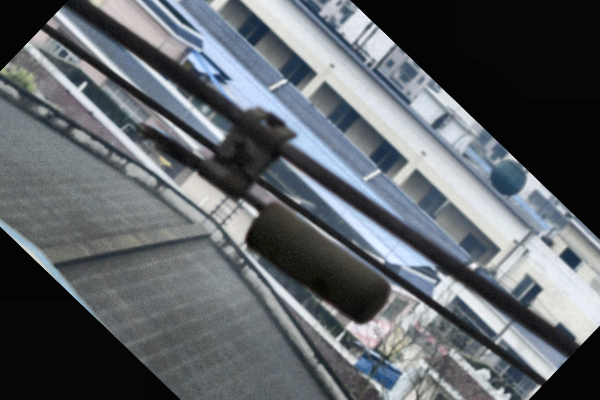damper: (123, 97, 396, 332)
